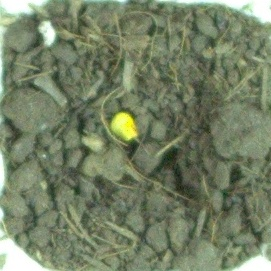chilli seed: (108, 110, 141, 142)
